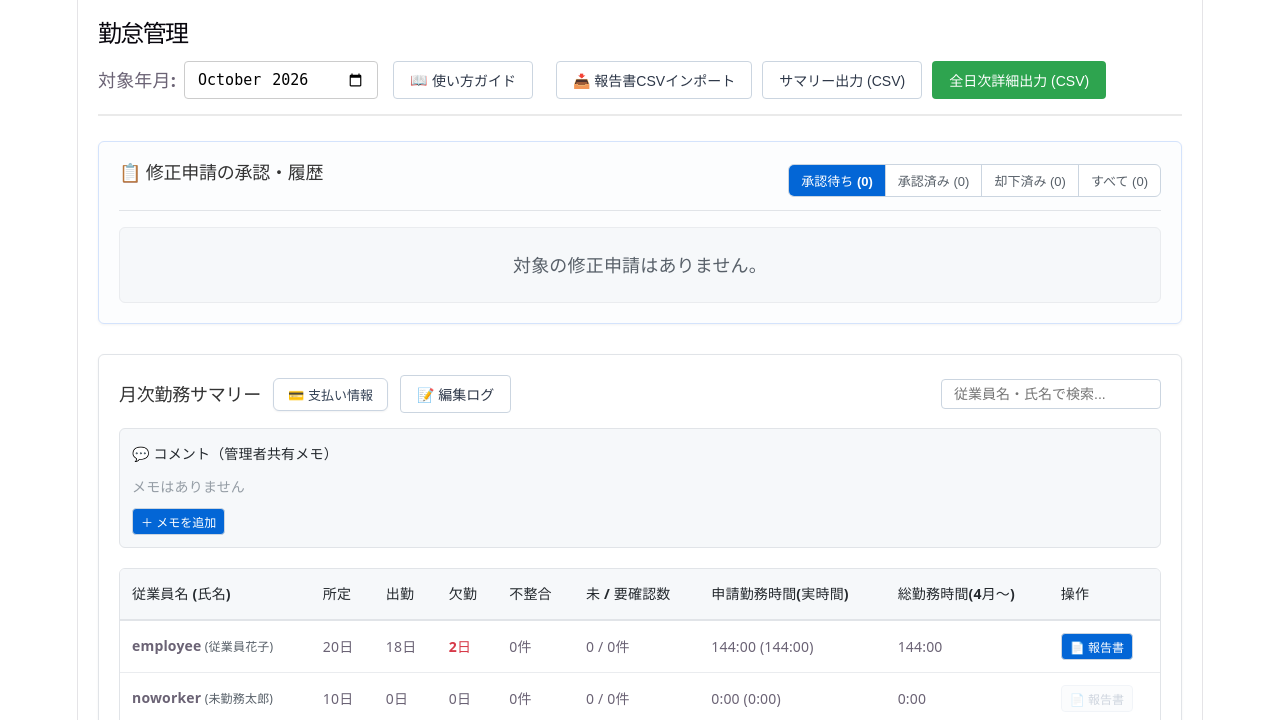
Test: AttendancePage - History › 管理者でログインし、詳細カレンダーで履歴ボタンをクリックすると履歴が表示されること
expect the heading "月次勤務サマリー" is shown: met, box [119, 384, 261, 405]
Note: 従業員の行をクリックして詳細を表示する
Click the text "employee": (640, 646) [120, 620, 1160, 673]
(page scrolled)
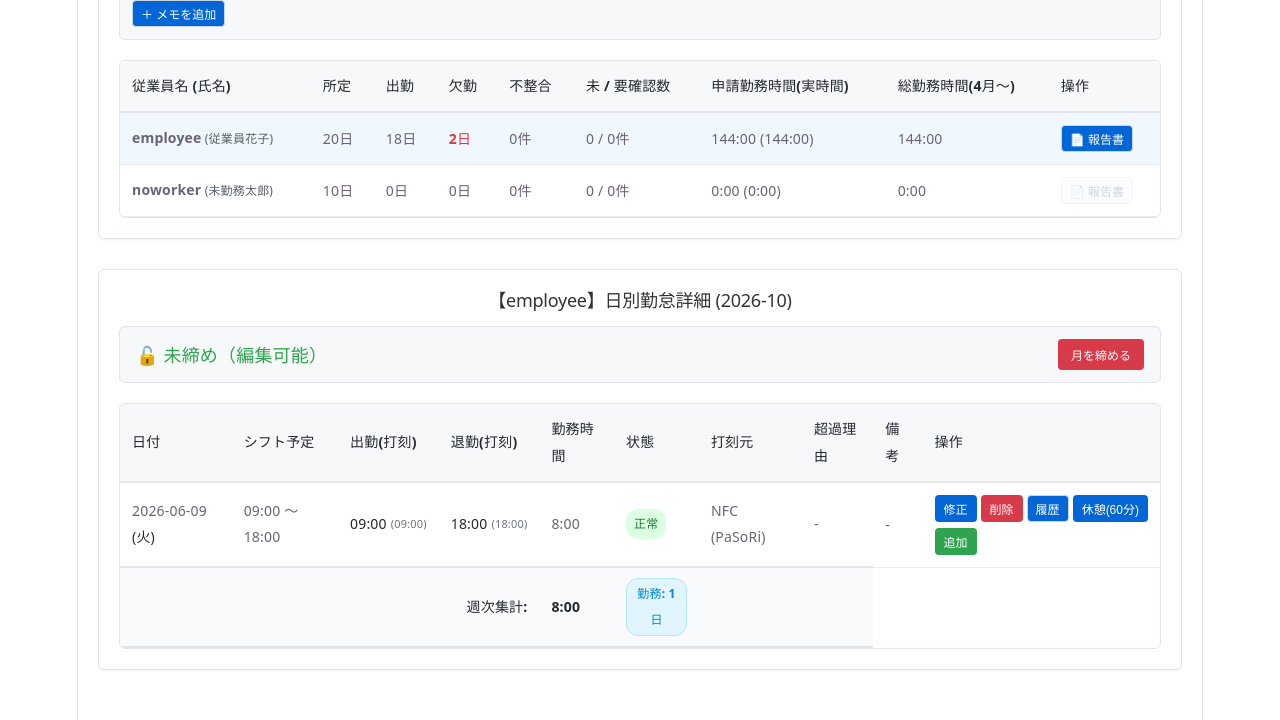
expect the heading "【employee】日別勤怠詳細 (2026-10)" is shown: met, box [488, 288, 792, 312]
expect the button "履歴" is shown: met
Note: 履歴ボタンをクリック
Click the button "履歴": (1048, 508) [1027, 495, 1069, 522]
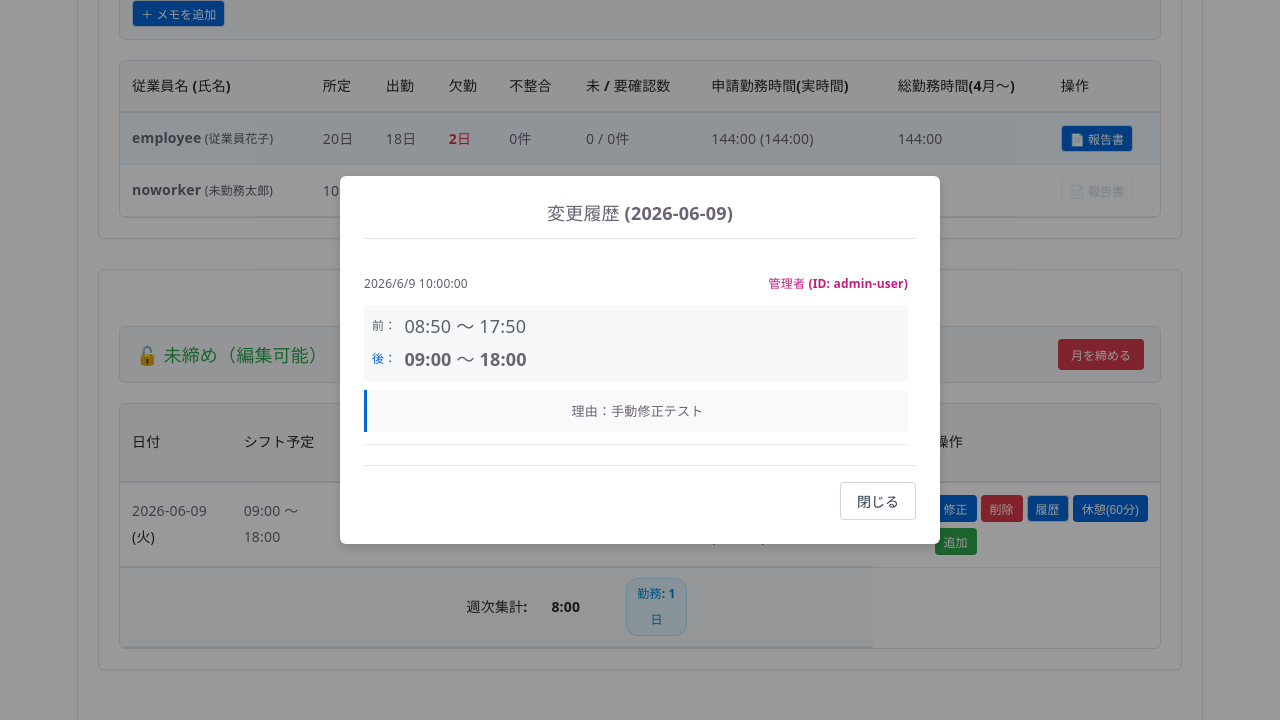
expect the heading "変更履歴 (2026-06-09)" is shown: met, box [364, 200, 916, 239]
expect the text "管理者 (ID: admin-user)" is shown: met, box [769, 271, 908, 298]
expect the text "手動修正テスト" is shown: met, box [611, 402, 703, 420]
Note: 閉じるボタンのクリックテスト
Click the button "閉じる": (878, 501) [840, 482, 916, 520]
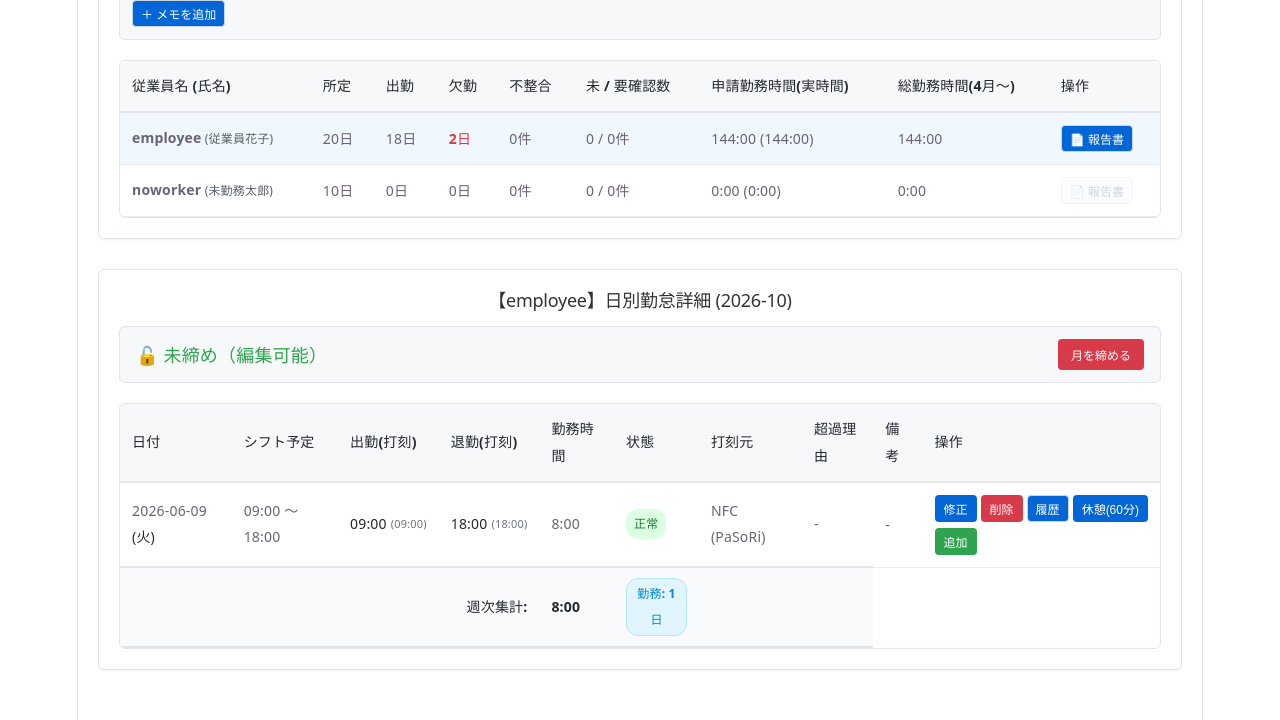
expect the heading "変更履歴 (2026-06-09)" is gone: met
